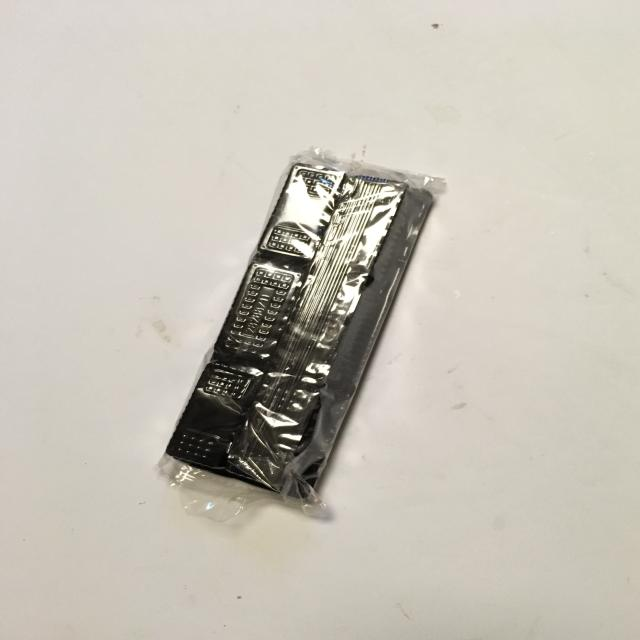plastic: (157, 147, 446, 522)
